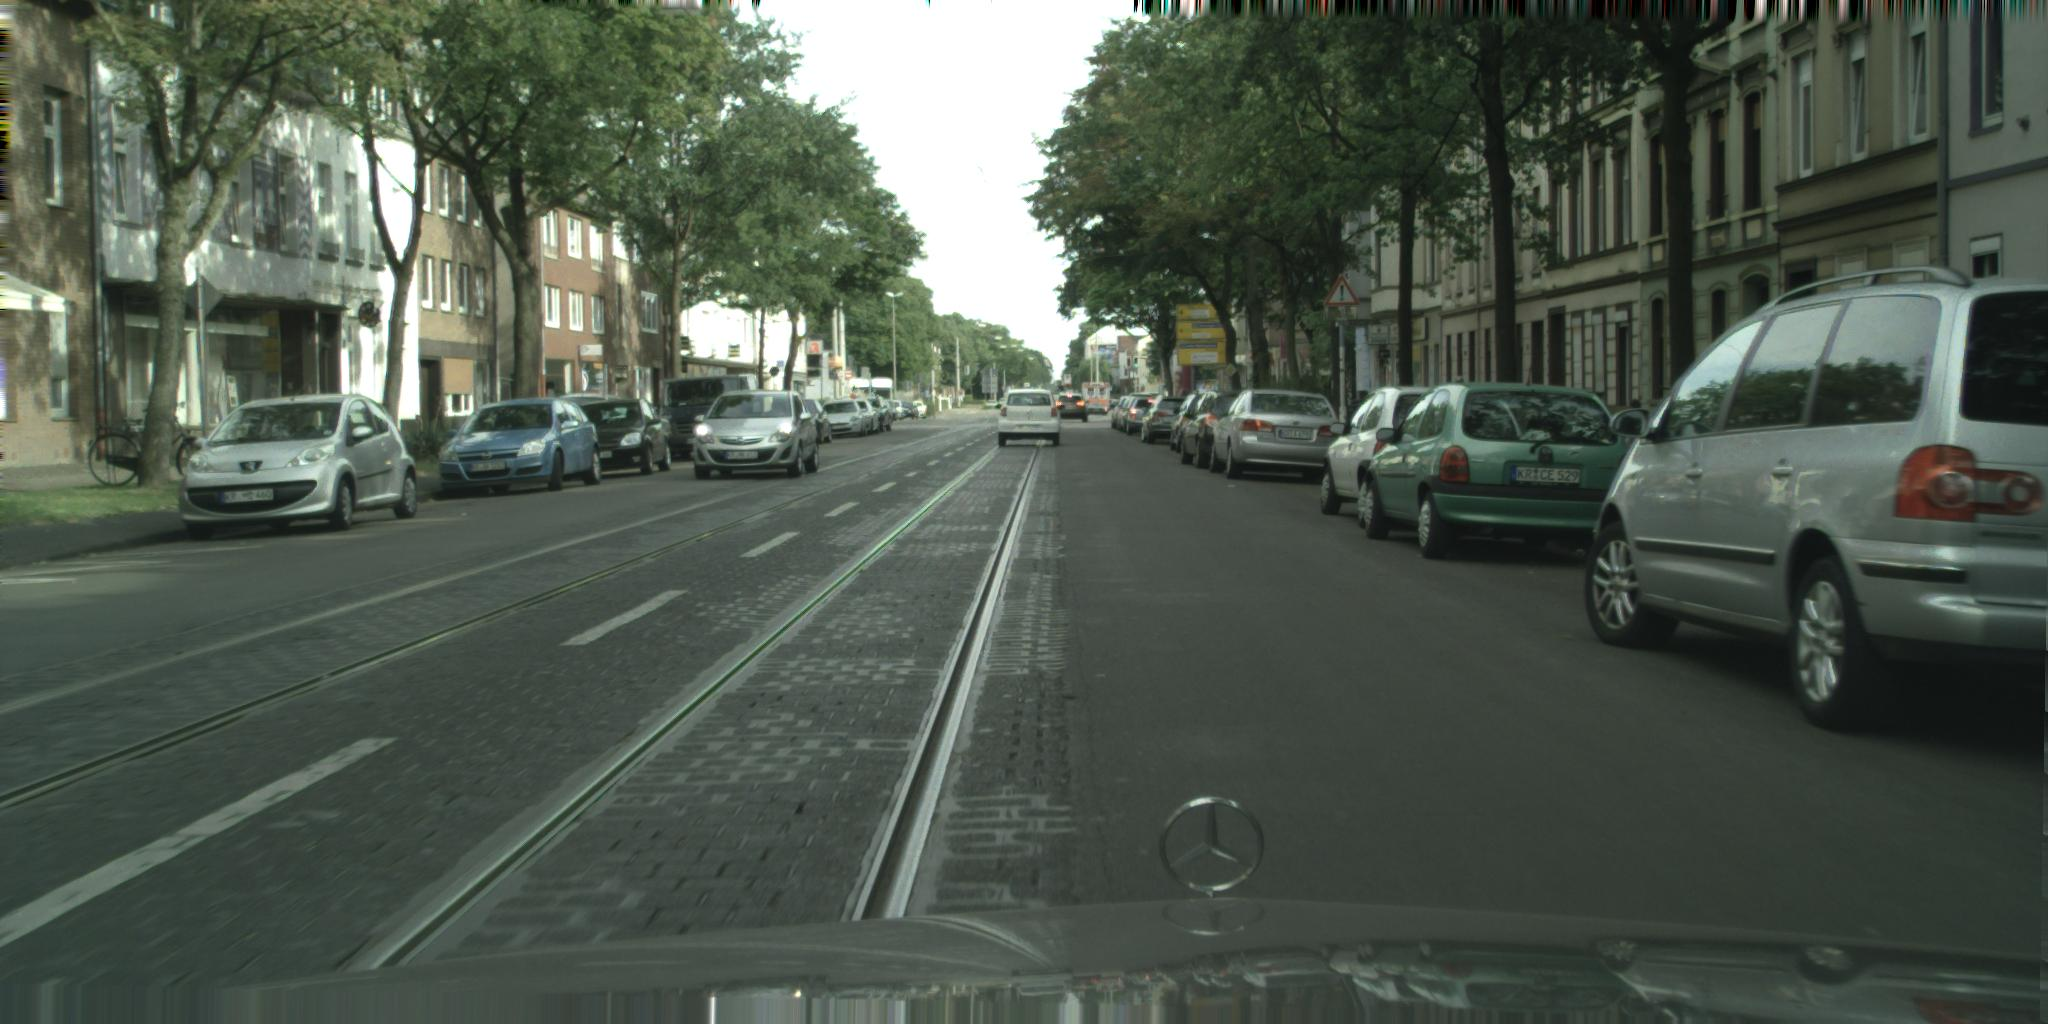bicycle: (88, 404, 213, 488)
car: (1584, 264, 2048, 733), (1364, 380, 1634, 562), (179, 393, 421, 545), (1320, 385, 1447, 530), (440, 398, 603, 502), (1209, 391, 1352, 486), (694, 389, 823, 483), (658, 375, 761, 461), (579, 398, 673, 477), (1179, 391, 1245, 472), (995, 389, 1066, 448), (1172, 391, 1228, 455), (1142, 394, 1189, 445), (554, 394, 633, 424), (822, 398, 869, 440), (801, 398, 835, 445), (1053, 393, 1091, 424)
truck: (1081, 381, 1112, 415)
